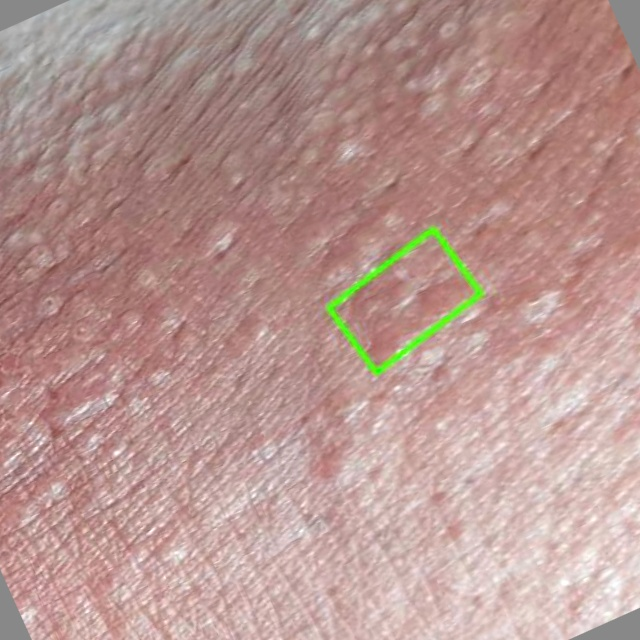Seborrheic Dermatitis: (328, 229, 480, 372)
